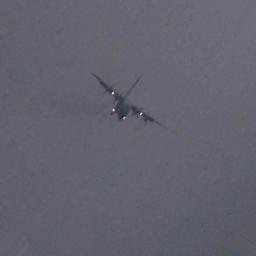Airplane: (92, 70, 168, 130)
